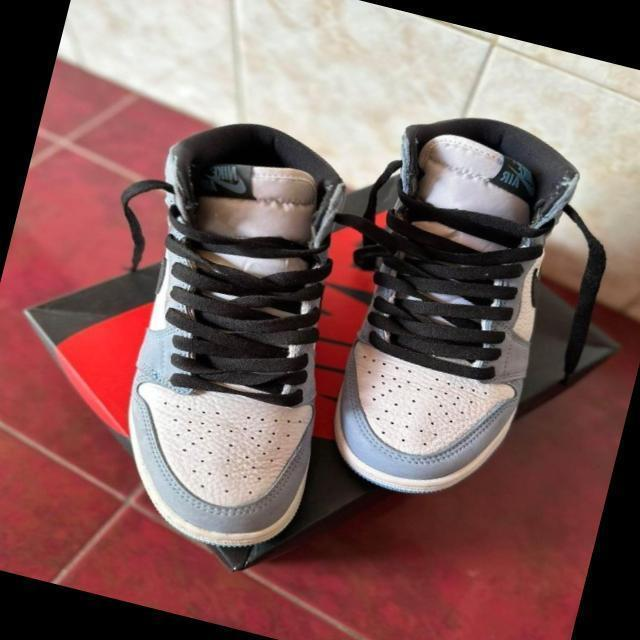nike fake jordan 1: (70, 99, 403, 570), (301, 92, 594, 516)
